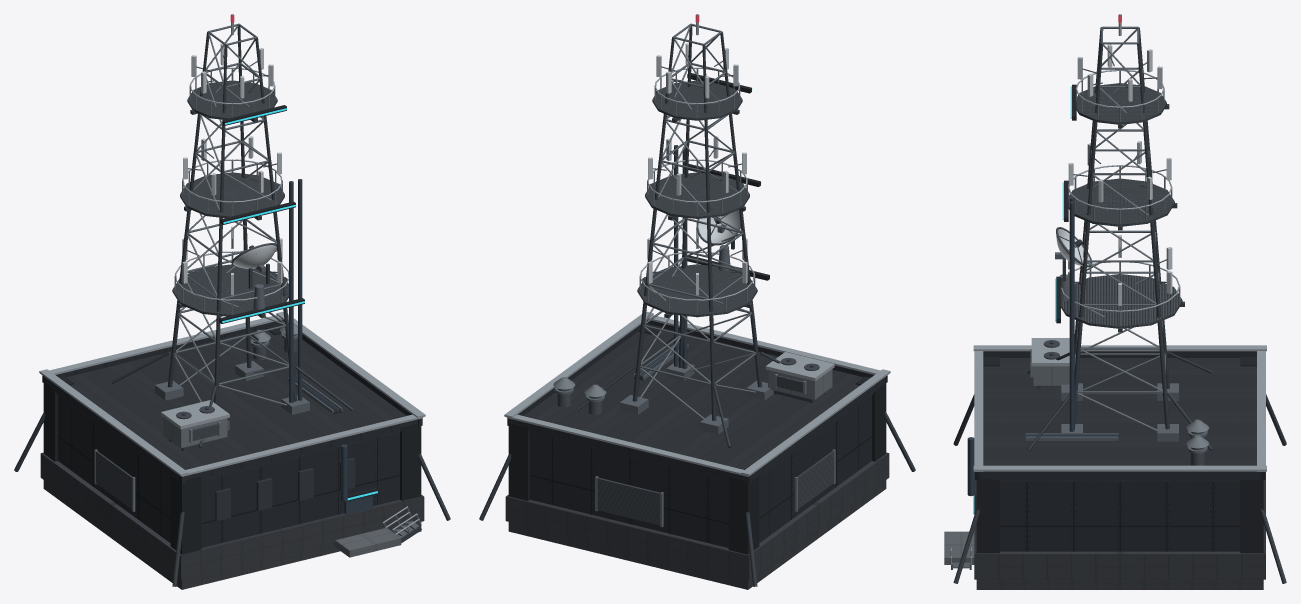
File: trg-4-built.glb
3 views of the same model, side by side, from view 1: azimuth 30°, elevation 25°; view 2: azimuth 150°, elevation 25°; view 3: azimuth 270°, elevation 25° (orthographic). The views are drawn at different scales.
Bounding box in the file's own units: 21.51 × 36.6 × 22.08.
Materials: 27 (15 with a texture image).
